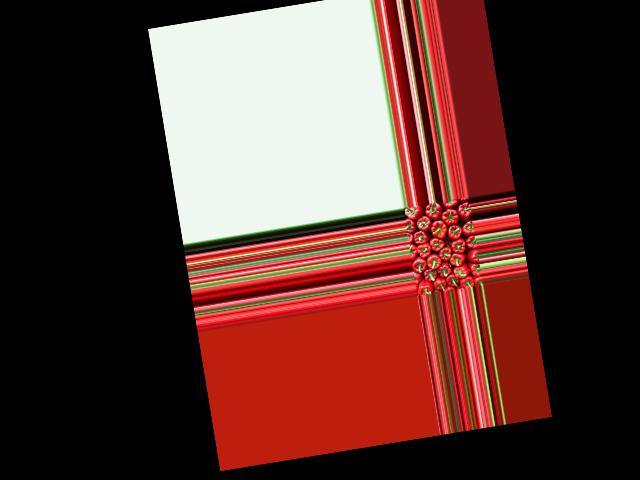bell_pepper: (416, 279, 432, 295)
